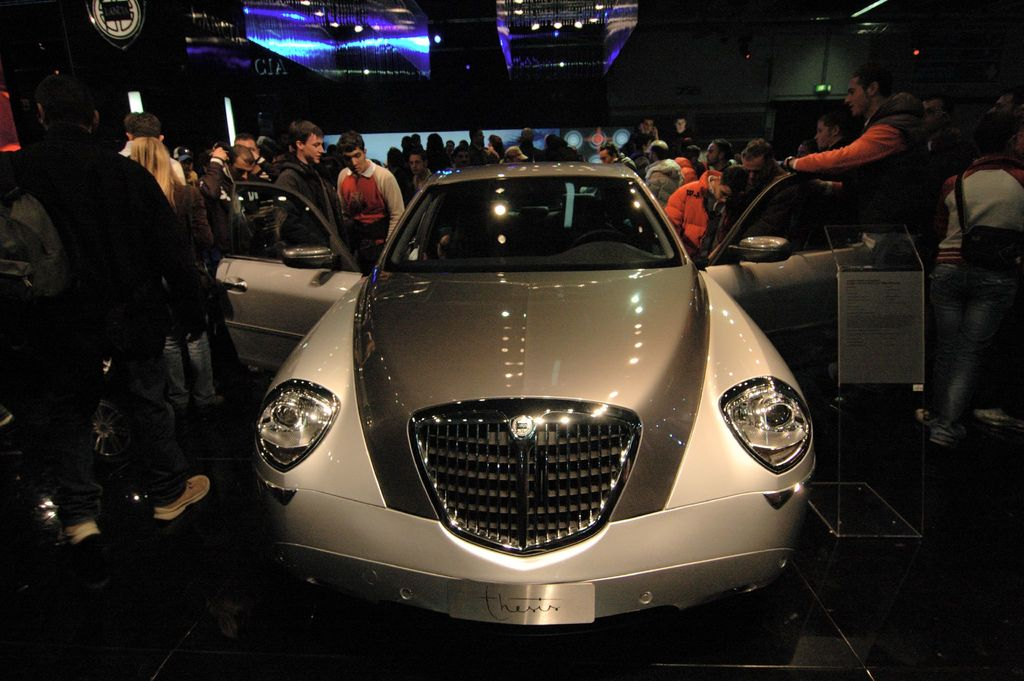Footwear: (152, 473, 211, 523), (58, 521, 100, 551)
